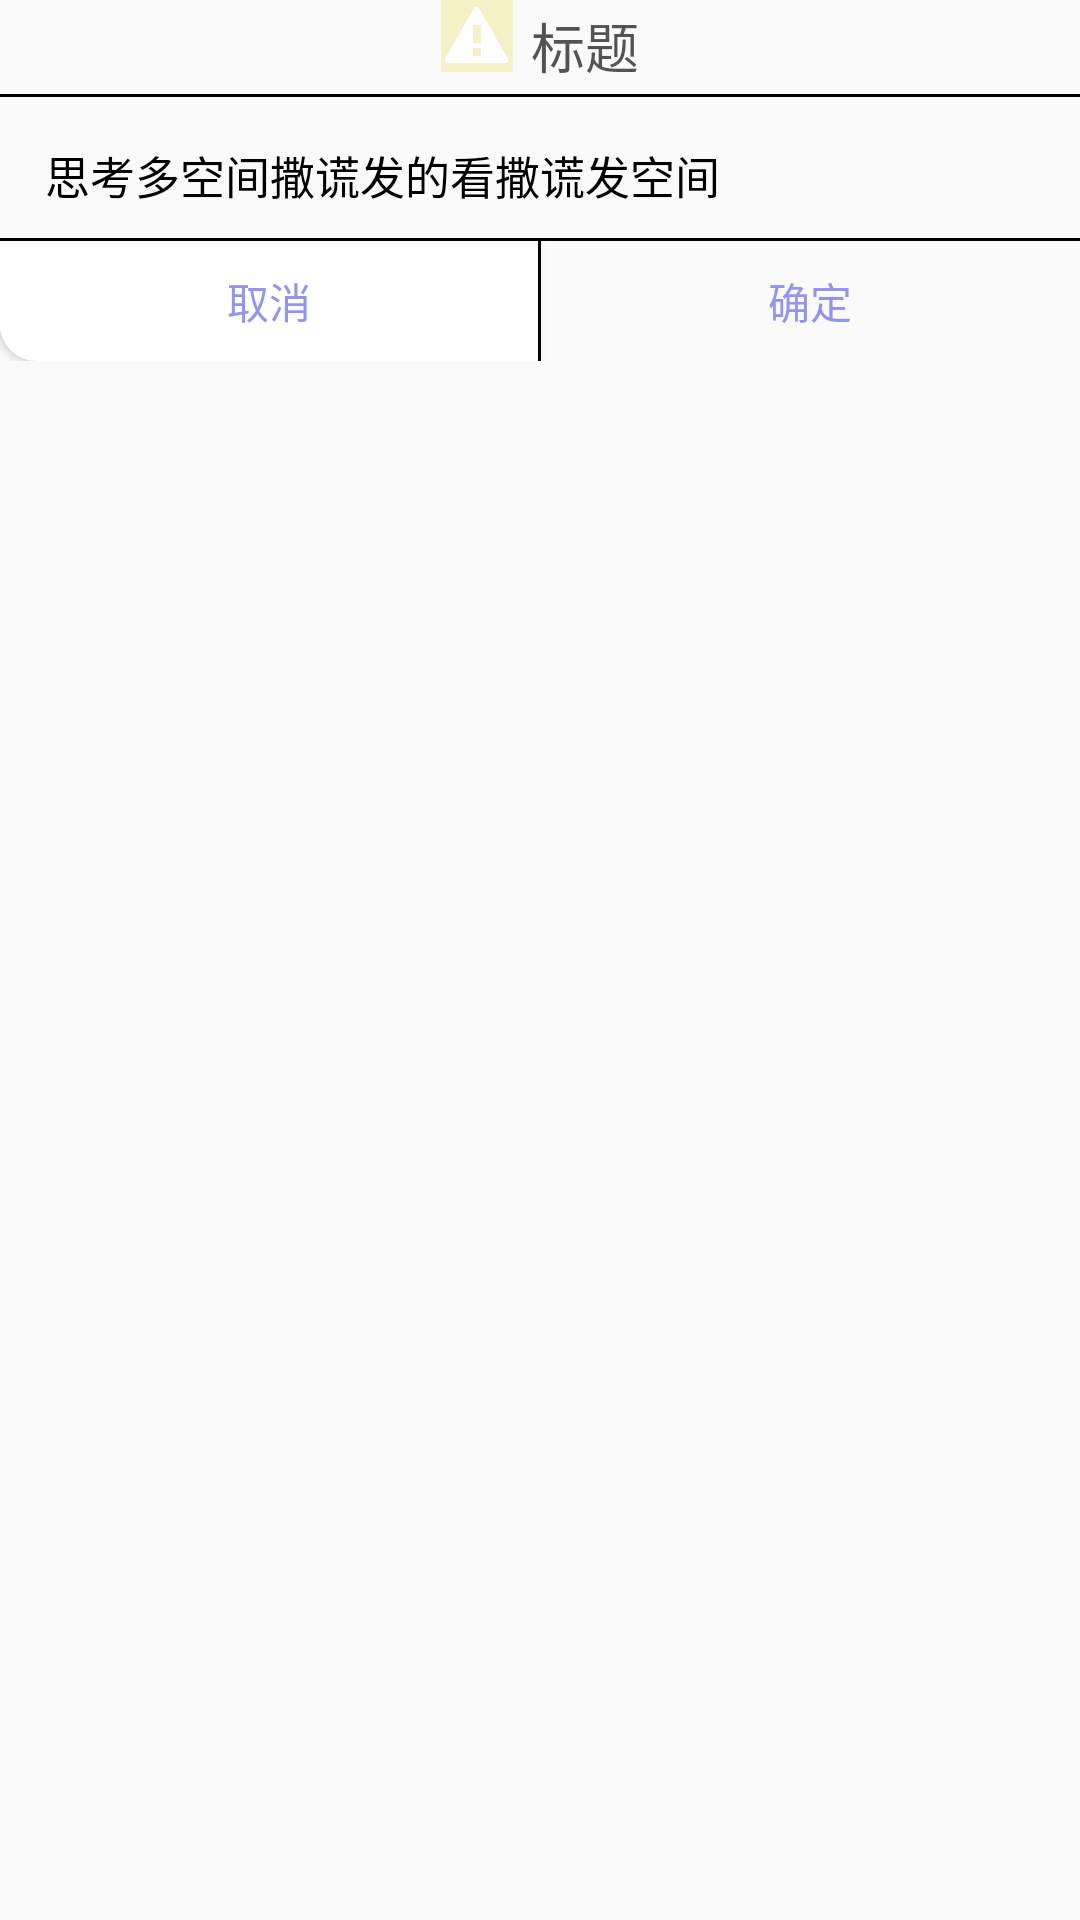

Screen size 1080×1920. Icon name, then its box in pixels as (x1, y1, x2, y2):
warning: (441, 0, 513, 72)
